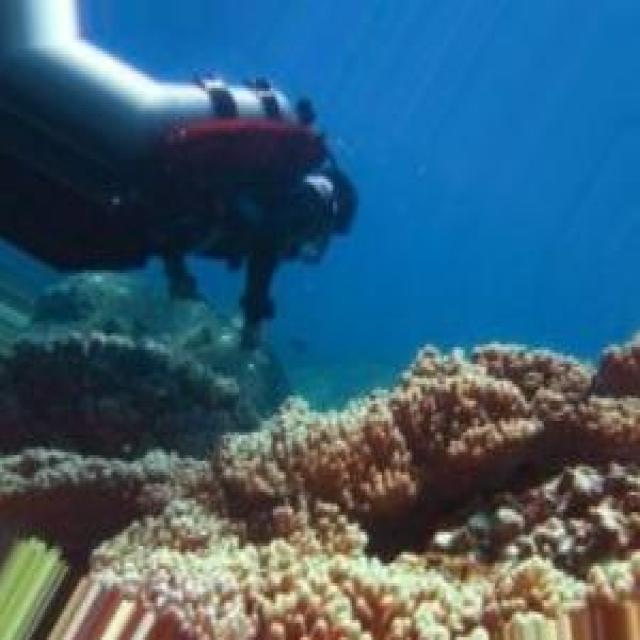Healthy: (78, 468, 640, 639), (215, 393, 420, 529), (390, 351, 545, 506), (474, 339, 640, 463)
